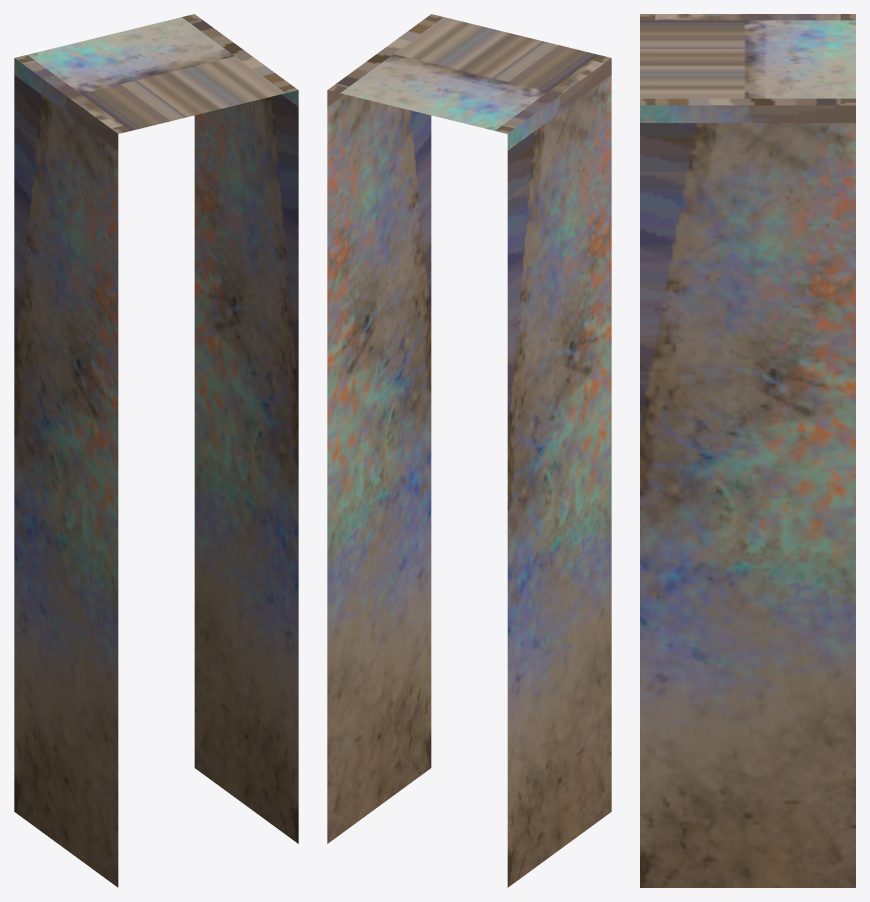
File: SbS_LDK_Rail.fbx
The picture shows the model from 3 angles, left to right: view 1: azimuth 30°, elevation 25°; view 2: azimuth 150°, elevation 25°; view 3: azimuth 270°, elevation 25°; orthographic projection. The views are drawn at different scales.
Visible parts, largest first — view 1: LDK_Rail; view 2: LDK_Rail; view 3: LDK_Rail.
Boxes of the visible parts, <box> form: LDK_Rail: <box>14,14,298,887</box>; LDK_Rail: <box>327,14,611,887</box>; LDK_Rail: <box>640,14,855,887</box>.
Bounding box in the file's own units: 250 × 1000 × 250.
